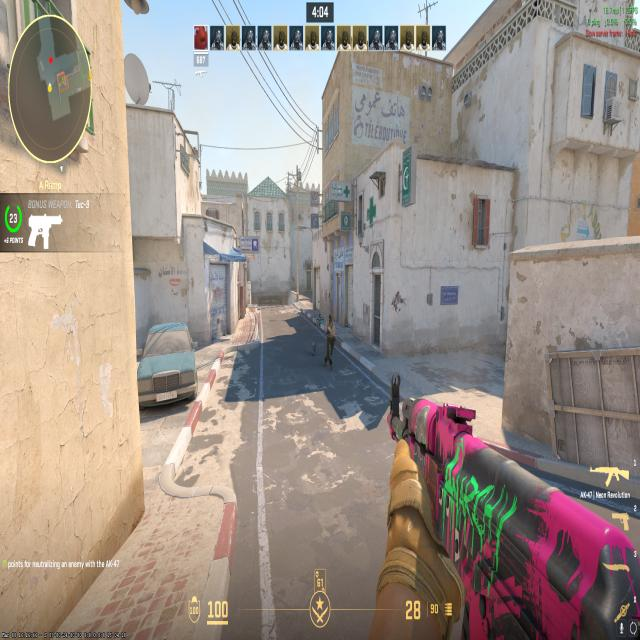t: (324, 312, 336, 369)
